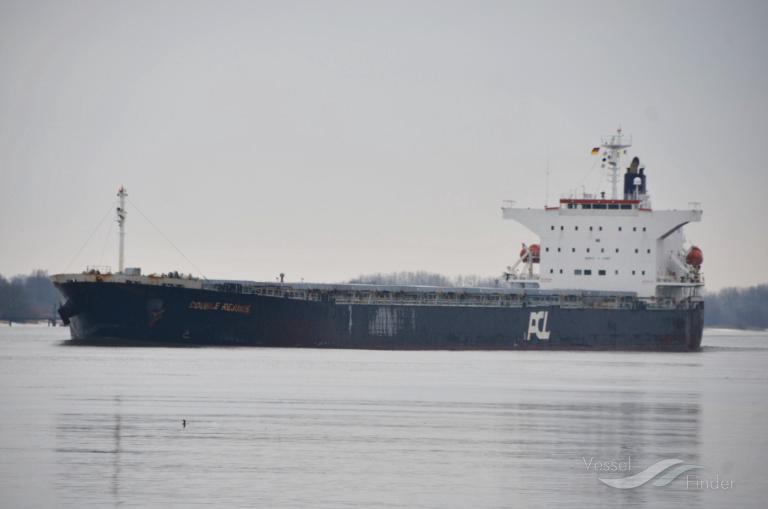OCR: (177, 294, 258, 318), (520, 304, 560, 347)
